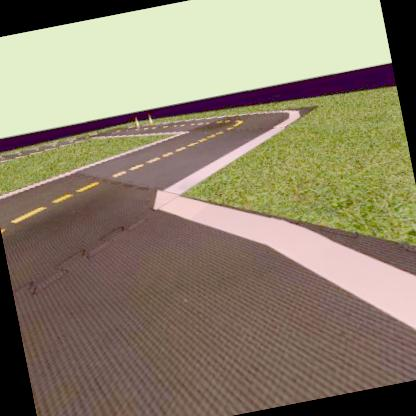Cone: (146, 113, 154, 128), (134, 116, 140, 130)
